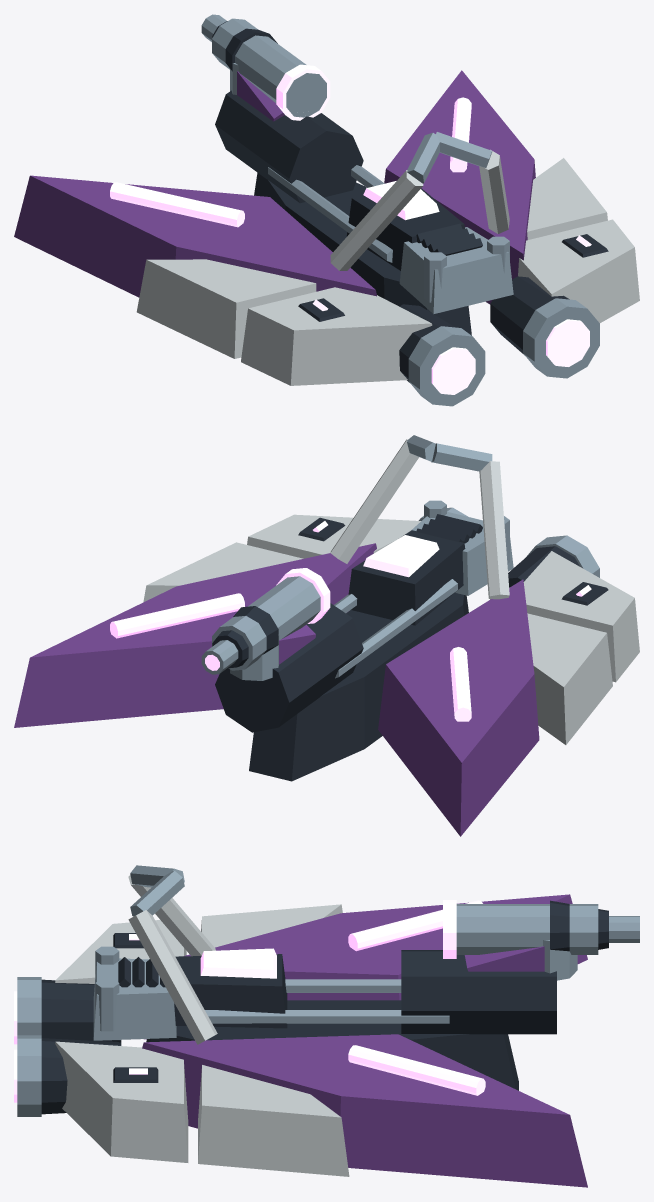
File: c5_skirmisher.glb
3 views of the same model, one above another, from view 1: azimuth 30°, elevation 25°; view 2: azimuth 150°, elevation 25°; view 3: azimuth 270°, elevation 25° (orthographic). The views are drawn at different scales.
Visible parts, largest first — view 1: c5_skirmisher / Identification, c5_skirmisher / Armor, c5_skirmisher / Chassis, c5_skirmisher / Titanium, c5_skirmisher / Energy; view 2: c5_skirmisher / Armor, c5_skirmisher / Chassis, c5_skirmisher / Identification, c5_skirmisher / Titanium, c5_skirmisher / Energy; view 3: c5_skirmisher / Armor, c5_skirmisher / Identification, c5_skirmisher / Chassis, c5_skirmisher / Titanium, c5_skirmisher / Energy.
Boxes of the visible parts, x1,y1,x2,y2 form: c5_skirmisher / Identification: (136, 149, 639, 385); c5_skirmisher / Armor: (14, 70, 535, 304); c5_skirmisher / Chassis: (212, 21, 608, 382); c5_skirmisher / Titanium: (201, 14, 599, 406); c5_skirmisher / Energy: (110, 64, 591, 394); c5_skirmisher / Armor: (14, 543, 539, 836); c5_skirmisher / Chassis: (212, 514, 608, 781); c5_skirmisher / Identification: (143, 439, 639, 744); c5_skirmisher / Titanium: (201, 435, 599, 680); c5_skirmisher / Energy: (110, 521, 591, 721); c5_skirmisher / Armor: (142, 894, 587, 1187); c5_skirmisher / Identification: (55, 875, 349, 1176); c5_skirmisher / Chassis: (41, 900, 608, 1114); c5_skirmisher / Titanium: (17, 865, 639, 1116); c5_skirmisher / Energy: (14, 900, 485, 1102).
Size of the model in its own units: 1.56 by 0.7107 by 1.81.
